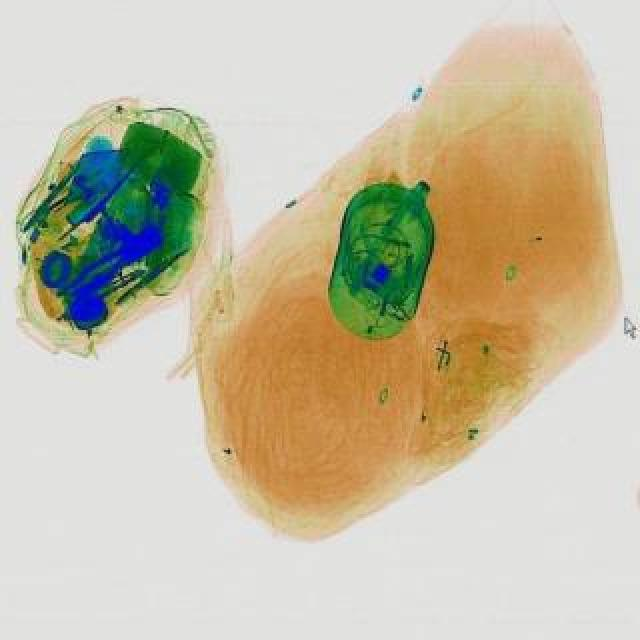wrench: (50, 220, 166, 310)
